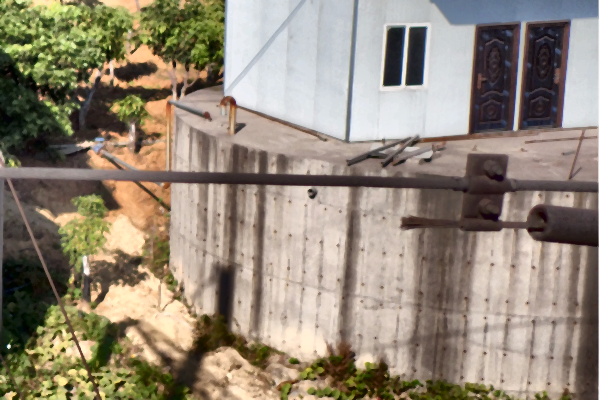damper_defect: (391, 149, 597, 249)
